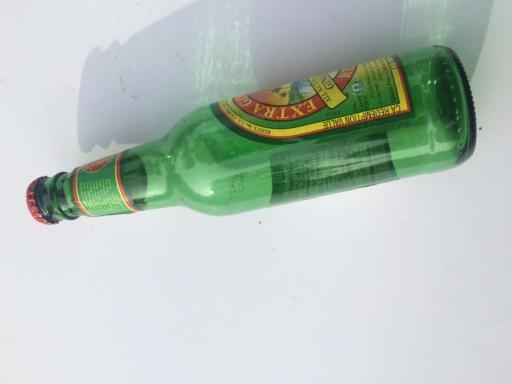botolkaca: (26, 45, 476, 227)
